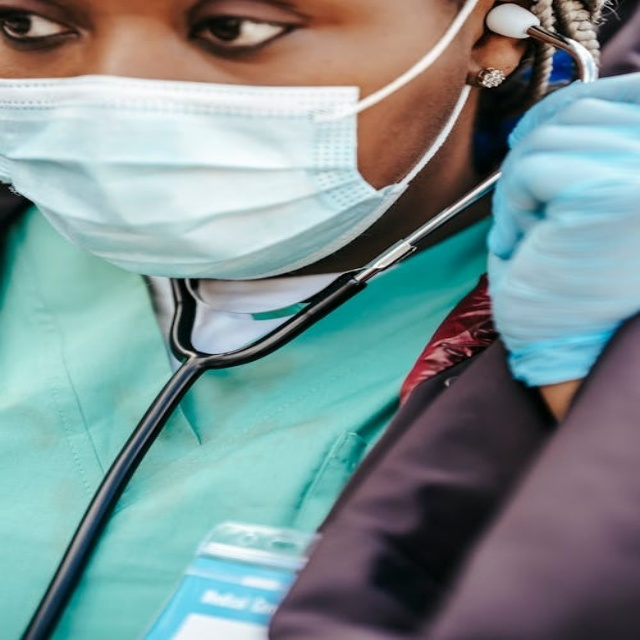Guantes: (485, 66, 640, 393)
Mascara: (4, 2, 496, 284)
Sin_gafas: (4, 1, 426, 70)
